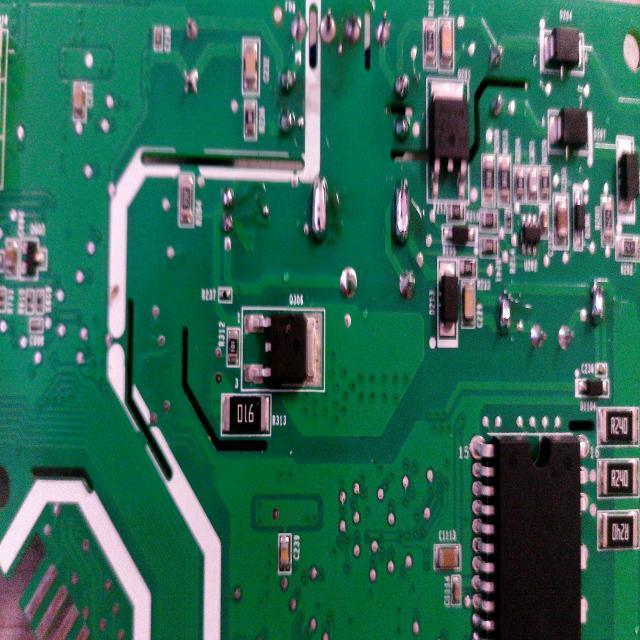Soldering shorted: (308, 173, 332, 244), (391, 174, 413, 247), (586, 276, 608, 336), (496, 287, 516, 339)
